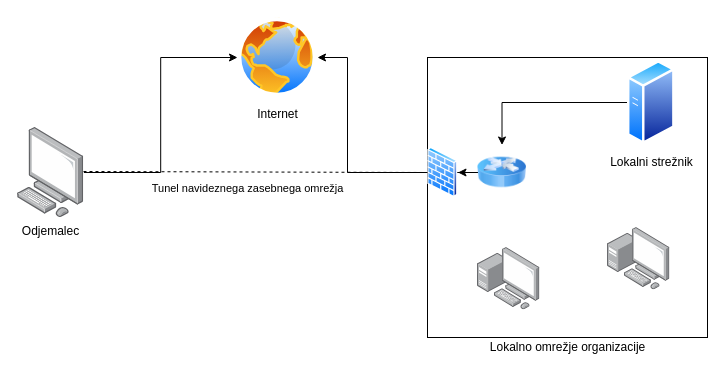
The diagram is 725 pixels wide and 374 high, and some of its shapes have lost their labels. The shapes that lost their labels are listed below. From the top down, each one's centre as x and y in pixels, then its label:
At [442,172]: "Požarni zid".
At [501,172]: "Prehod".
